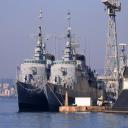Fragata: (42, 8, 105, 114), (13, 8, 58, 115)
